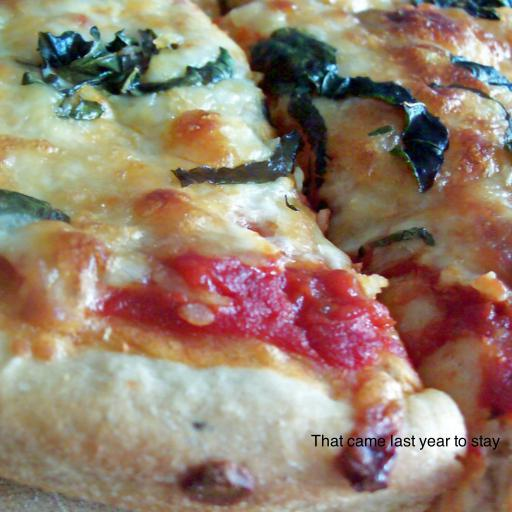SF Pro: (310, 434, 500, 450)
